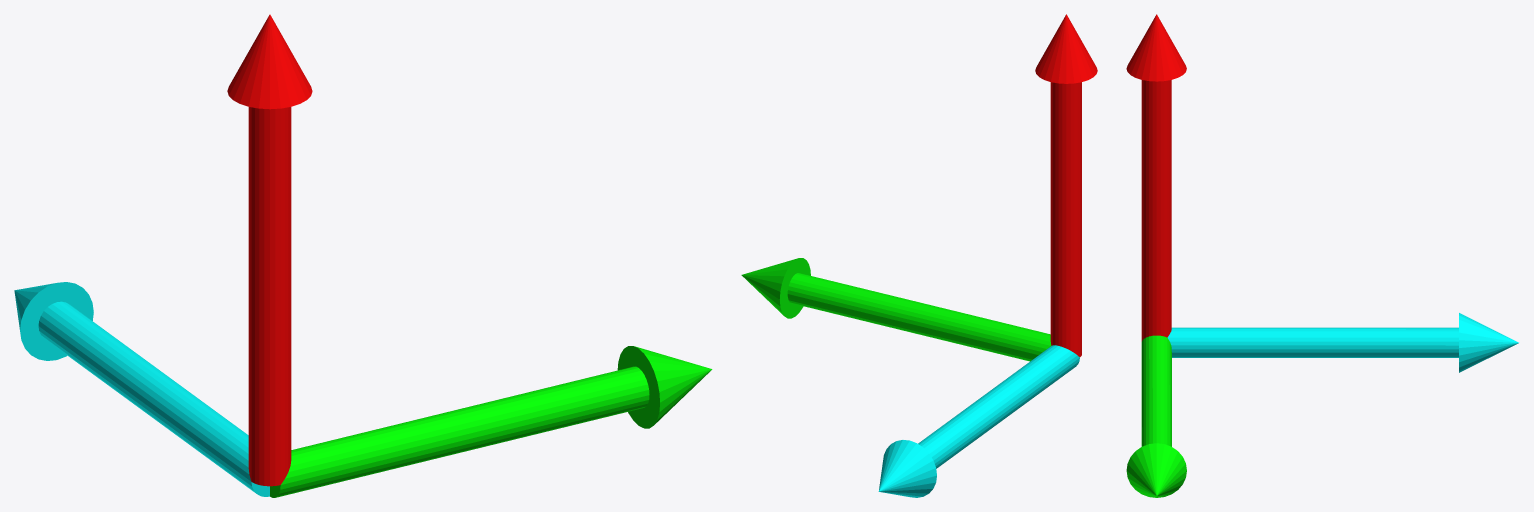
Rendered from axis.FBX.
3 renders of one model, left to right at view 1: azimuth 30°, elevation 25°; view 2: azimuth 150°, elevation 25°; view 3: azimuth 270°, elevation 25°, orthographic. The views are drawn at different scales.
Parts seen in each view (by area): view 1: Component4_001, Component6_001, Component5_001, Component1_001, Component3_001, Component2_001; view 2: Component4_001, Component6_001, Component5_001, Component2_001, Component1_001, Component3_001; view 3: Component5_001, Component4_001, Component6_001, Component3_001, Component1_001, Component2_001.
Part boxes in pixels (x1,y1,x2,y2): Component4_001: [248, 107, 291, 486]; Component6_001: [270, 366, 649, 497]; Component5_001: [38, 301, 269, 496]; Component1_001: [227, 14, 312, 109]; Component3_001: [617, 346, 712, 428]; Component2_001: [14, 282, 93, 360]; Component4_001: [1050, 82, 1081, 356]; Component6_001: [787, 273, 1051, 361]; Component5_001: [918, 345, 1079, 468]; Component2_001: [878, 440, 936, 497]; Component1_001: [1035, 14, 1097, 83]; Component3_001: [741, 258, 810, 318]; Component5_001: [1167, 327, 1458, 357]; Component4_001: [1141, 80, 1171, 341]; Component6_001: [1141, 335, 1171, 446]; Component3_001: [1126, 443, 1186, 497]; Component1_001: [1126, 14, 1186, 81]; Component2_001: [1459, 313, 1518, 372].
Bounding box in the file's own units: 4873 × 4874 × 4873.
